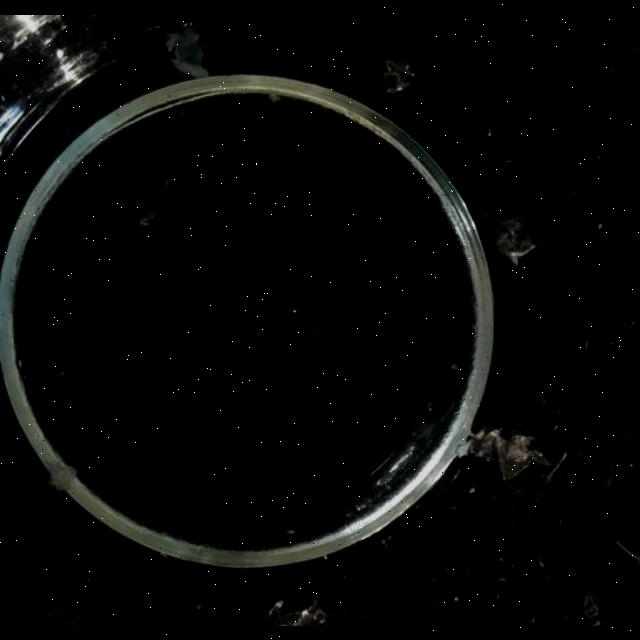Fibre: (468, 424, 552, 480), (165, 25, 211, 77), (489, 216, 537, 264), (268, 598, 328, 626), (41, 458, 79, 492), (382, 58, 416, 92), (582, 592, 600, 620), (138, 201, 156, 227), (266, 92, 282, 104), (0, 128, 4, 163), (163, 176, 170, 186), (486, 125, 492, 136), (598, 222, 604, 230)
microbeads: (427, 400, 437, 412), (498, 576, 508, 582), (454, 595, 461, 603)
